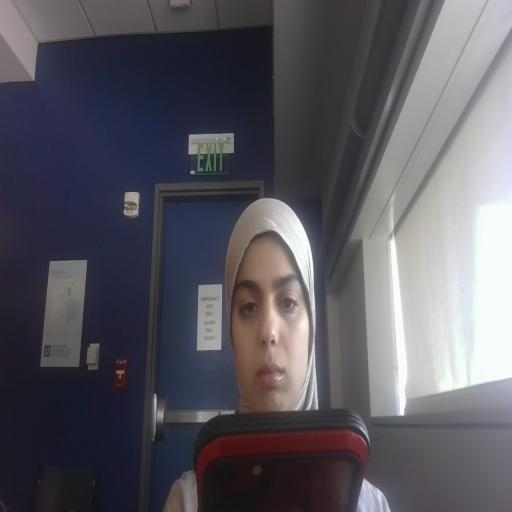phone: (187, 400, 411, 512)
